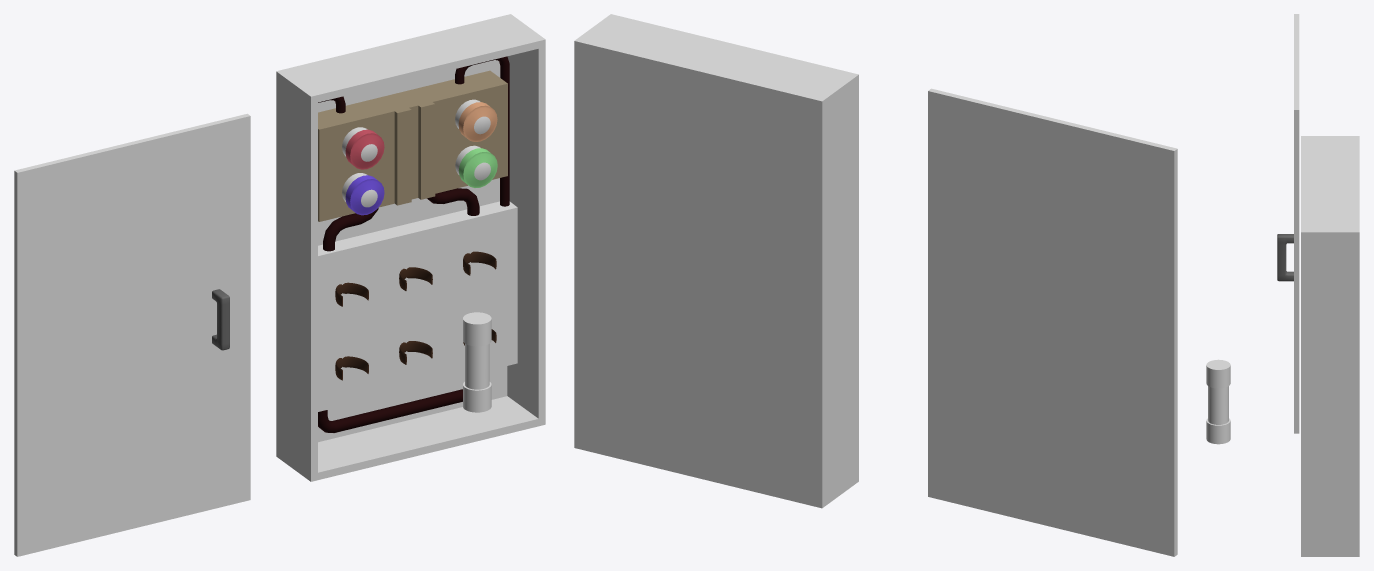
The model's file is Fusebox.fbx.
The picture shows the model from 3 angles, left to right: view 1: azimuth 30°, elevation 25°; view 2: azimuth 150°, elevation 25°; view 3: azimuth 270°, elevation 25°; orthographic projection. The views are drawn at different scales.
Visible parts, largest first — view 1: Fusebox, FuseboxDoor, Fuse, Handle; view 2: Fusebox, FuseboxDoor; view 3: Fusebox, FuseboxDoor, Fuse, Handle.
Boxes of the visible parts, <box> form: Fusebox: <box>276,14,545,481</box>; FuseboxDoor: <box>14,113,250,556</box>; Fuse: <box>463,312,491,412</box>; Handle: <box>212,289,229,350</box>; Fusebox: <box>574,14,858,508</box>; FuseboxDoor: <box>928,88,1177,556</box>; Fusebox: <box>1301,136,1359,556</box>; FuseboxDoor: <box>1294,14,1299,433</box>; Fuse: <box>1206,359,1230,444</box>; Handle: <box>1277,234,1293,281</box>.
Bounding box in the file's own units: 292 × 202 × 86.41.
